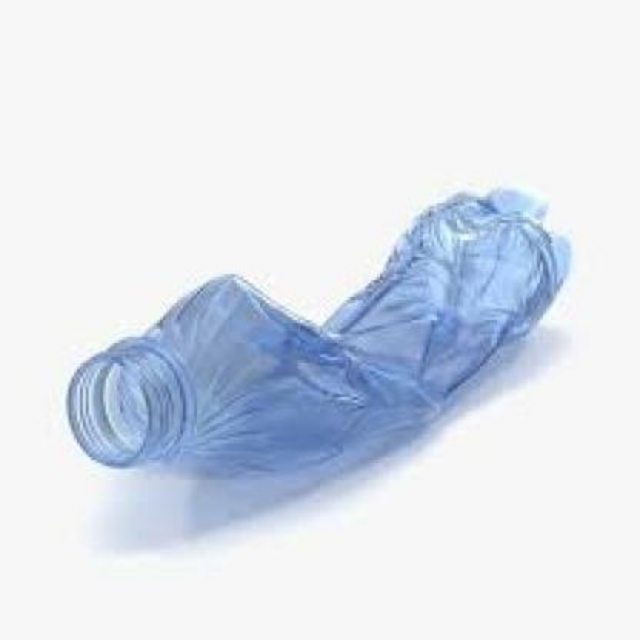trash: (66, 189, 569, 475)
